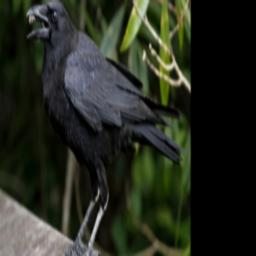Crow: (26, 0, 184, 256)
